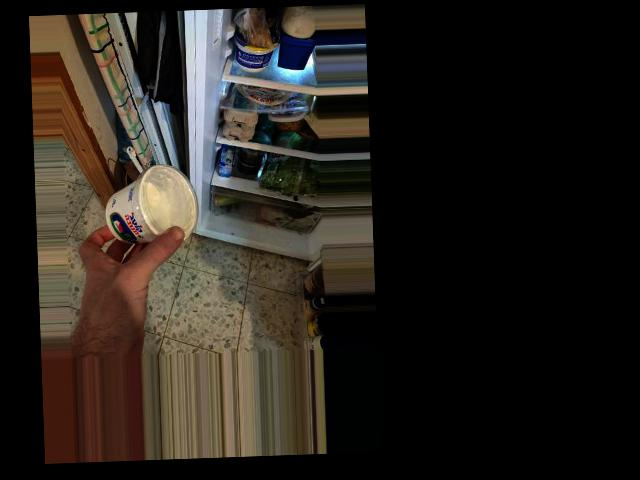cotage: (104, 170, 196, 247)
